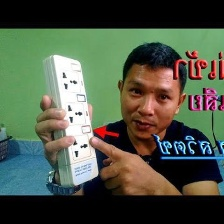three_eye_plug: (38, 53, 102, 189)
